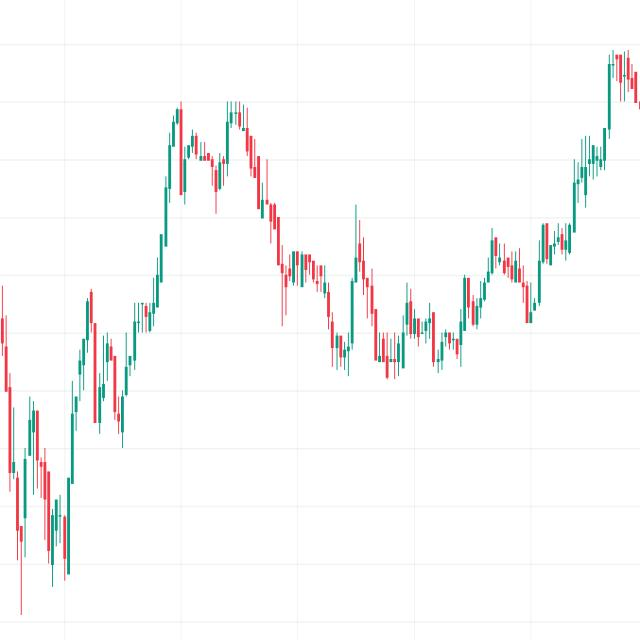Triple-Bottom: (320, 269, 475, 385)
